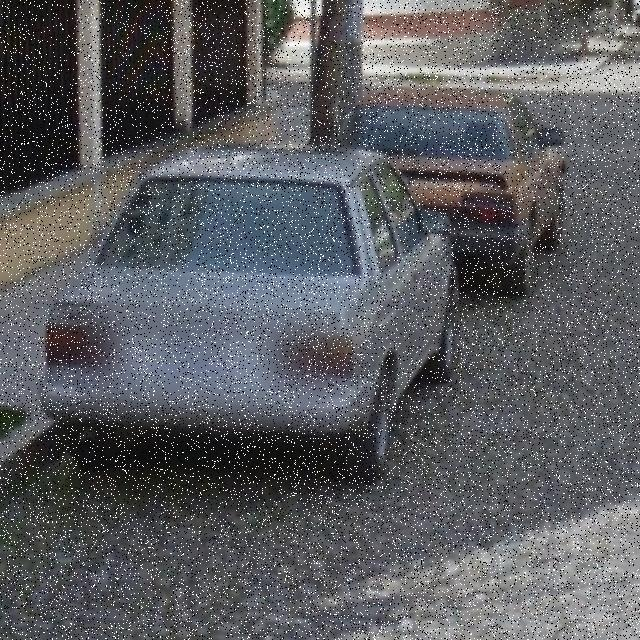cars: (46, 146, 452, 454), (352, 62, 570, 227)
